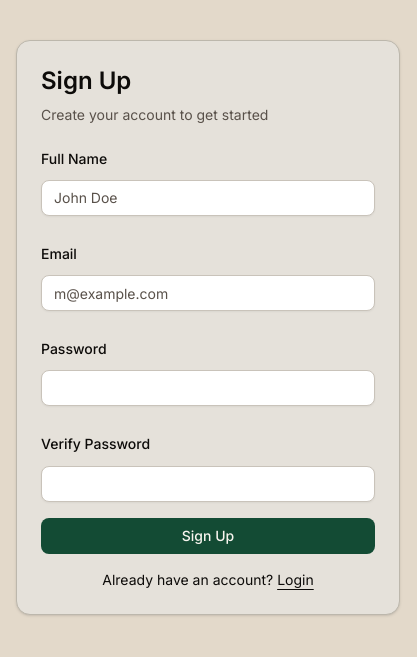
Test: auth forms › shows registration server errors
Step 1. Type "Jane Traveller" into the field labelled "Full Name" → (208, 198), box [41, 180, 375, 216]
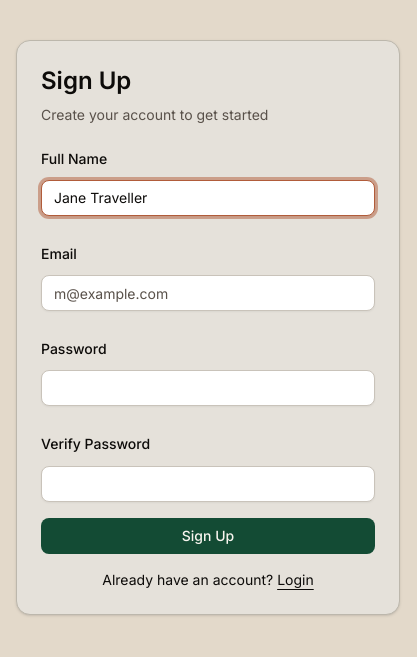
Step 2. Type "jane@example.com" into the field labelled "Email" → (208, 293), box [41, 275, 375, 311]
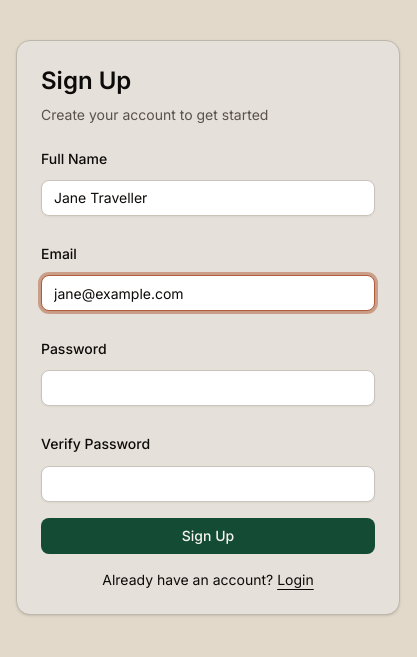
Step 3. Type "secret-password" into the password field labelled "Password" → (208, 388), box [41, 370, 375, 406]
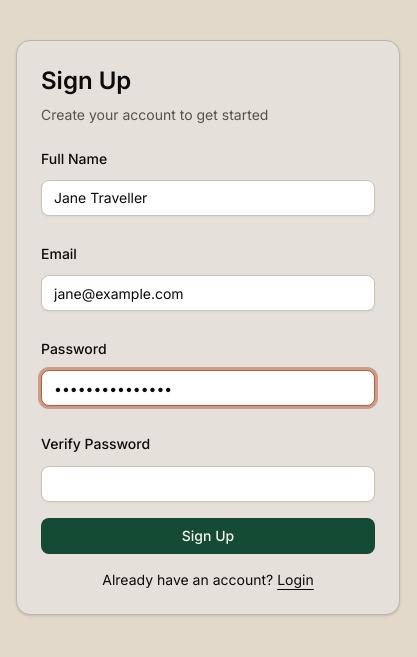
Step 4. Type "secret-password" into the password field labelled "Verify Password" → (208, 484), box [41, 466, 375, 502]
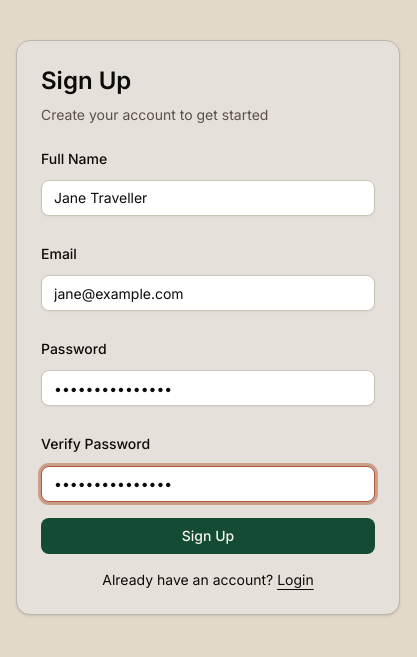
Step 5. Click the button "Sign Up" → (208, 536), box [41, 518, 375, 554]
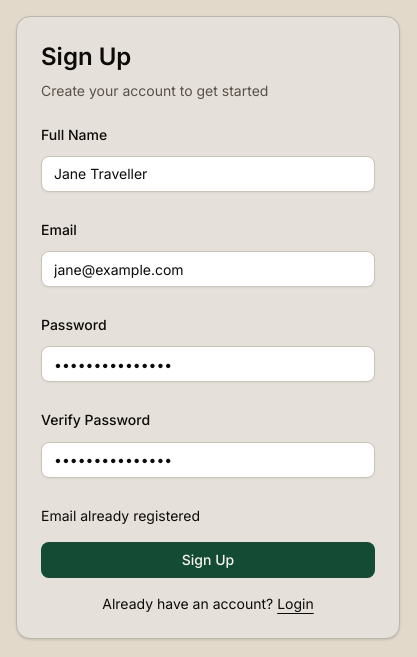
Result: the text "Email already registered" is shown at [41, 506, 200, 524]
